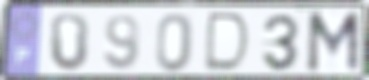0: (47, 12, 91, 74), (154, 11, 196, 74)
3: (259, 13, 302, 73)
9: (102, 14, 143, 72)
D: (201, 11, 254, 75)
M: (304, 10, 363, 76)
